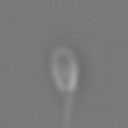normal: (55, 92, 81, 128)
